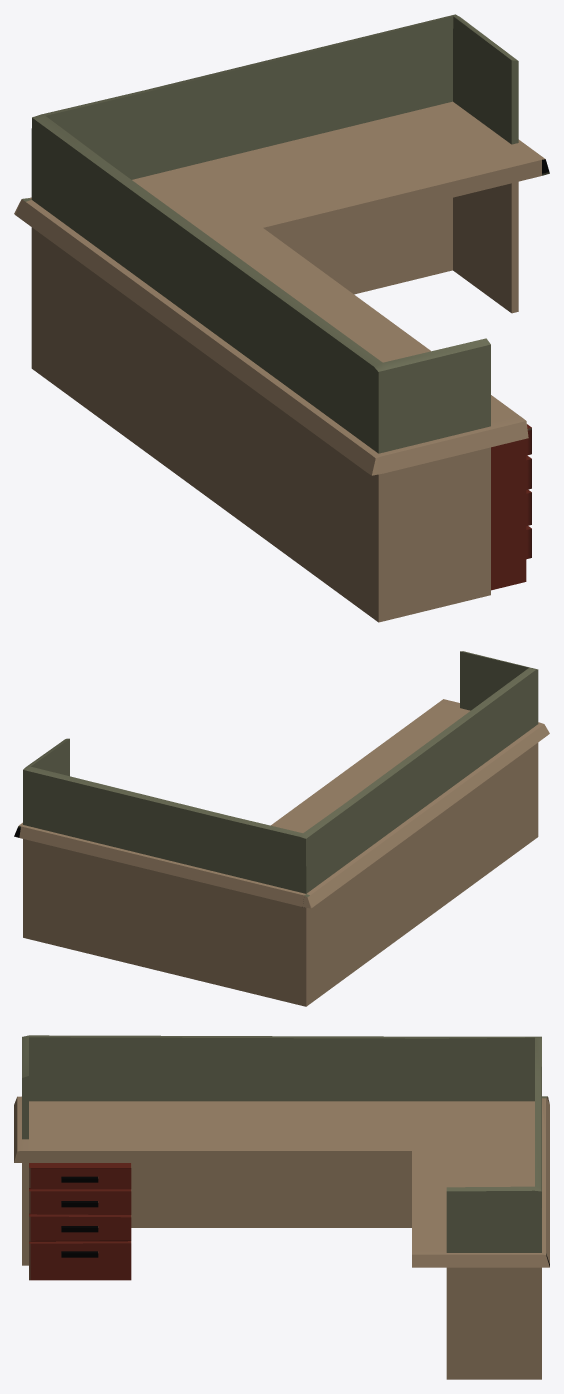
Rendered from CORNER_DESK.fbx.
3 renders of one model, top to bottom at view 1: azimuth 30°, elevation 25°; view 2: azimuth 150°, elevation 25°; view 3: azimuth 270°, elevation 25°, orthographic. The views are drawn at different scales.
Parts seen in each view (by area): view 1: pCube7; view 2: pCube7; view 3: pCube7.
Part boxes in pixels (box(x1,y1,x2,y2)): pCube7: box(14, 14, 549, 622); pCube7: box(14, 651, 549, 1006); pCube7: box(14, 1035, 549, 1379).
Bounding box in the file's own units: 289 × 158 × 403.
1 material, 1 textured.
